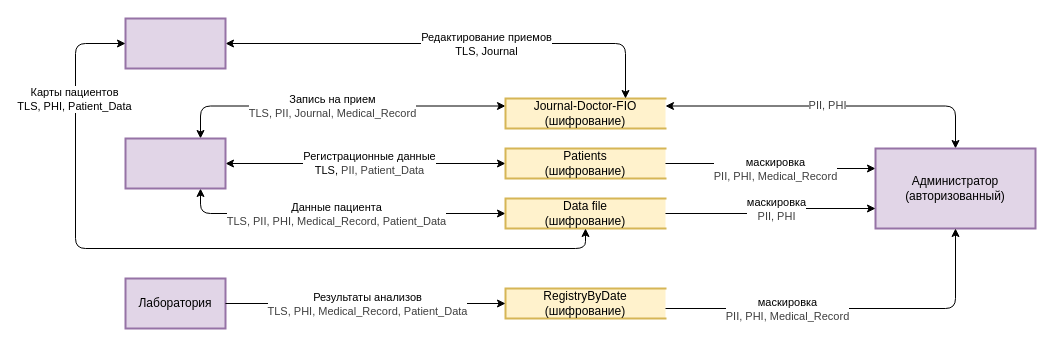
Some shapes in this 1054 by 346 pixel diagram are drawn without their labels. Each missing label, with the centre of its shape:
Врач (авторизованный): the point at 175,43
Пациент (авторизованный): the point at 175,163
